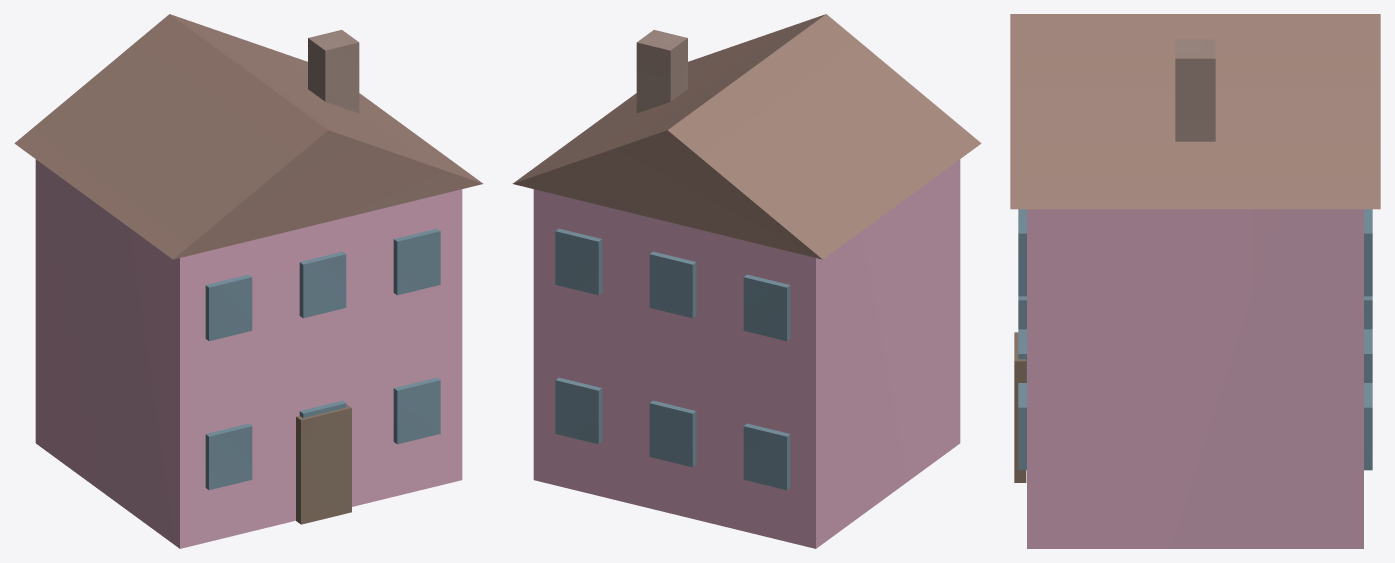
Rendered from cottage-04.glb.
3 views of the same model, side by side, from view 1: azimuth 30°, elevation 25°; view 2: azimuth 150°, elevation 25°; view 3: azimuth 270°, elevation 25° (orthographic). The views are drawn at different scales.
Visible parts, largest first — view 1: world; view 2: world; view 3: world.
Part boxes in pixels (x1,y1,x2,y2): world: (14,14,483,548); world: (512,14,981,548); world: (1010,14,1380,548).
Size of the model in its own units: 1.25 by 1.54 by 1.1.
